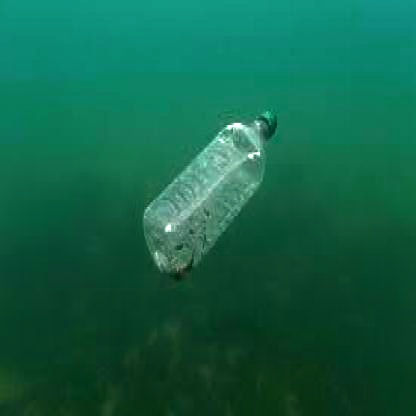pbottle: (138, 100, 284, 277)
